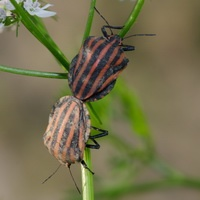insect: (43, 0, 143, 199)
